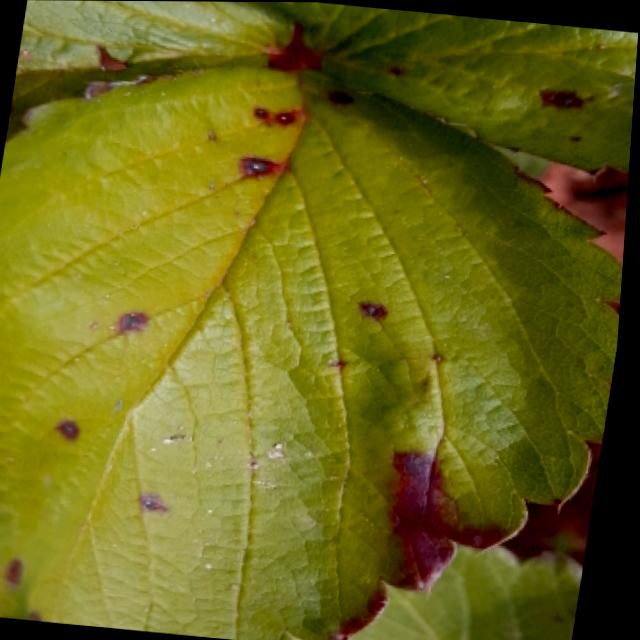Leaf Spot: (0, 67, 627, 640), (265, 2, 639, 176), (7, 0, 307, 143), (357, 544, 591, 640)
